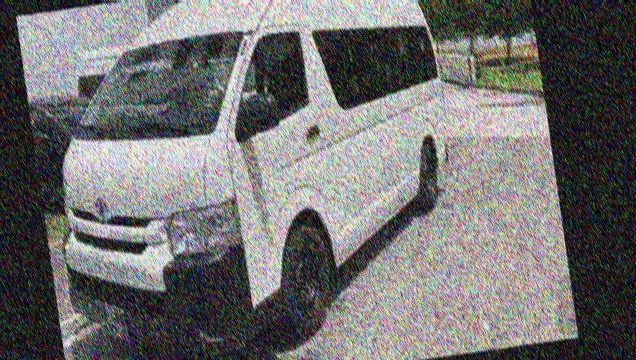van: (23, 0, 487, 360)
